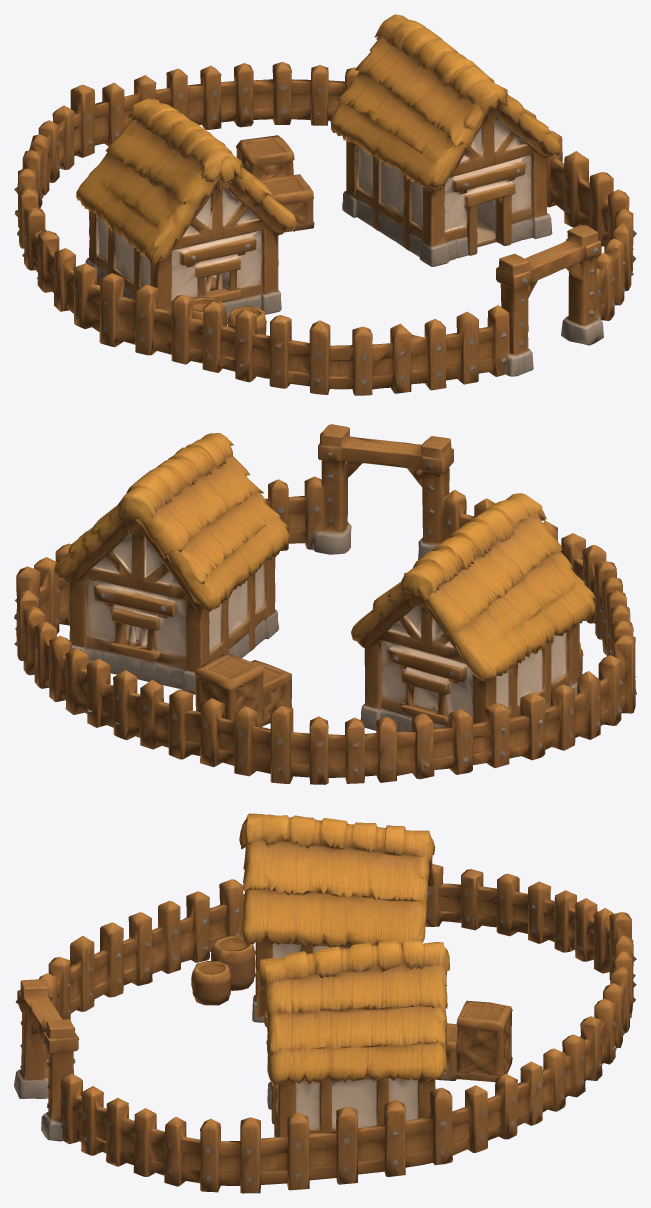
File: source.glb
3 renders of one model, top to bottom at view 1: azimuth 30°, elevation 25°; view 2: azimuth 150°, elevation 25°; view 3: azimuth 270°, elevation 25°, orthographic. The views are drawn at different scales.
Visible parts, largest first — view 1: tripo_node_7e7a072a-2f6d-488b-8a3f-15362af08592; view 2: tripo_node_7e7a072a-2f6d-488b-8a3f-15362af08592; view 3: tripo_node_7e7a072a-2f6d-488b-8a3f-15362af08592.
Boxes of the visible parts, <box> form: tripo_node_7e7a072a-2f6d-488b-8a3f-15362af08592: <box>14,14,636,395</box>; tripo_node_7e7a072a-2f6d-488b-8a3f-15362af08592: <box>14,424,636,784</box>; tripo_node_7e7a072a-2f6d-488b-8a3f-15362af08592: <box>14,813,636,1193</box>.
Bounding box in the file's own units: 0.9673 × 0.346 × 1.
1 material, 1 textured.
